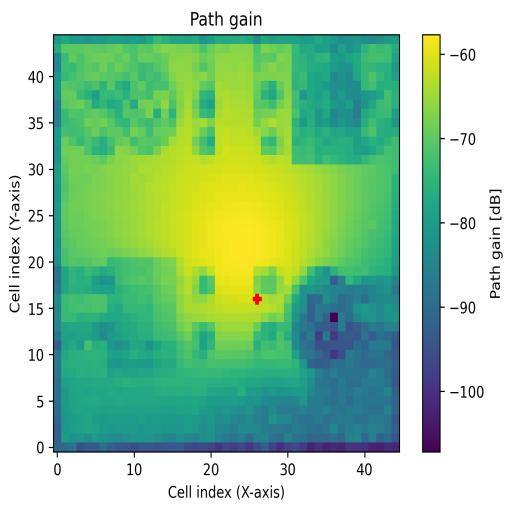Concrete: (292, 46, 378, 164)
Glass: (84, 53, 176, 156)
Metal: (285, 266, 377, 377)
Wood: (108, 257, 184, 378)
